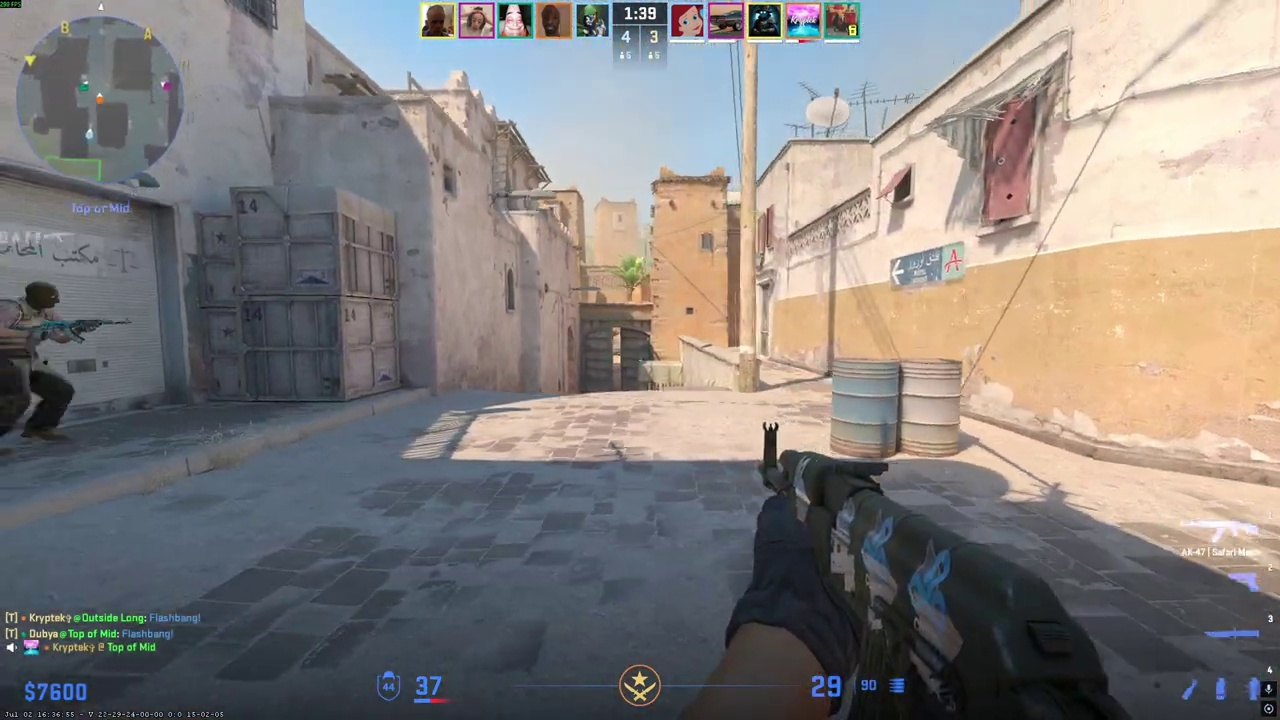Terrorist: (0, 280, 80, 460)
